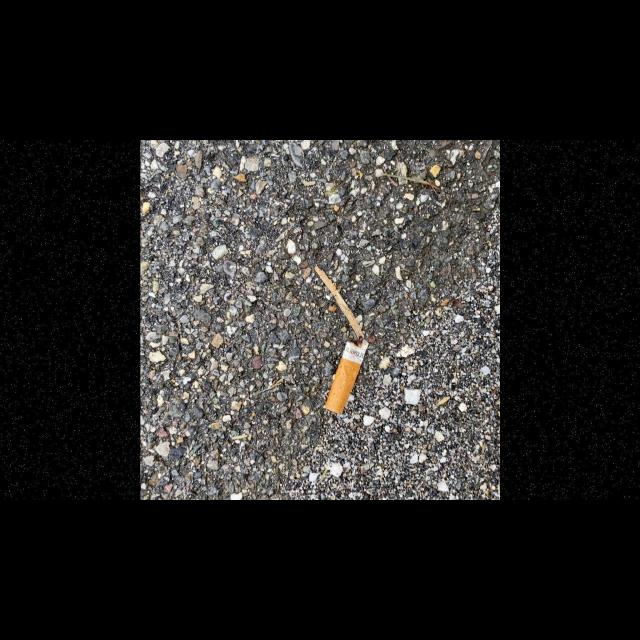cigarette: (325, 336, 369, 414)
